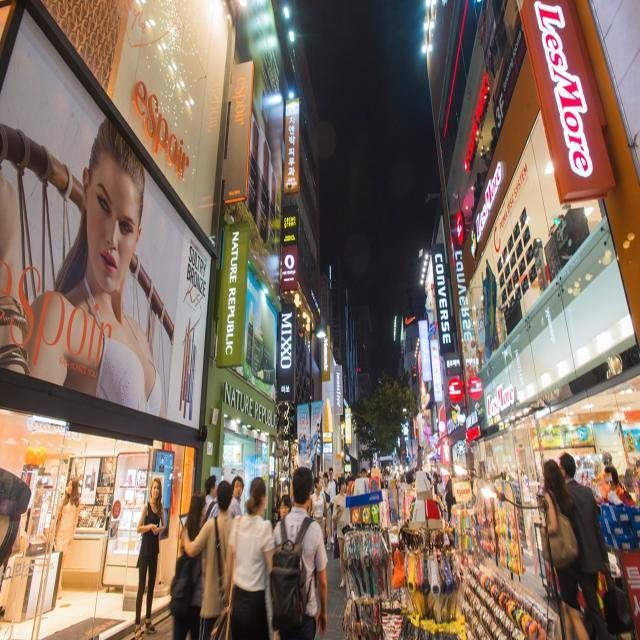body: (0, 107, 167, 421), (558, 451, 635, 640), (268, 465, 330, 639), (180, 477, 236, 640), (540, 458, 590, 640), (170, 489, 208, 639), (134, 474, 166, 639), (50, 475, 82, 600), (337, 466, 443, 498), (600, 432, 640, 495), (471, 439, 527, 482), (332, 476, 351, 590), (473, 124, 497, 209), (308, 475, 330, 545), (602, 463, 636, 507), (321, 472, 333, 553), (201, 473, 219, 526), (327, 466, 338, 545), (72, 458, 98, 490), (227, 475, 245, 519), (228, 474, 244, 520), (444, 473, 454, 523), (278, 493, 292, 522), (309, 422, 321, 455), (157, 452, 167, 474), (437, 474, 445, 501), (282, 477, 290, 495)
